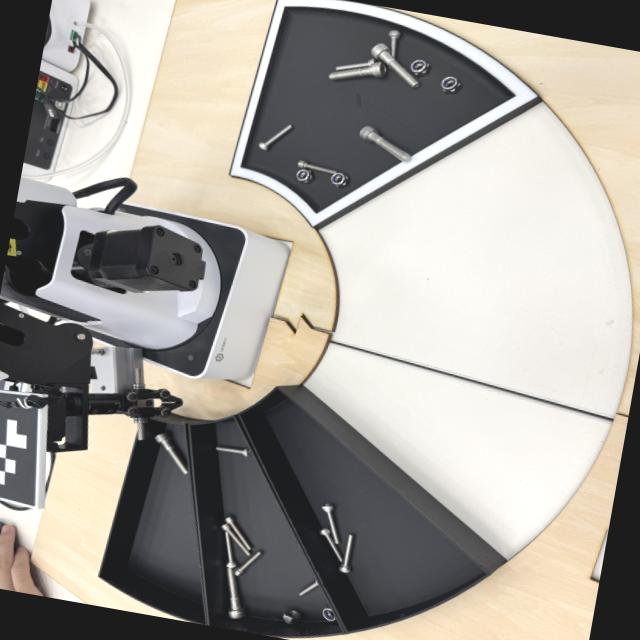big: (353, 118, 413, 174), (366, 37, 423, 91), (211, 562, 247, 625), (150, 426, 191, 481), (324, 57, 388, 81)
board: (218, 0, 562, 268)
box: (173, 365, 505, 640), (119, 402, 348, 640), (89, 413, 250, 622)
circle: (405, 56, 435, 82), (439, 73, 465, 97), (278, 605, 304, 626), (293, 165, 316, 186), (318, 605, 342, 625), (329, 169, 348, 190)
small: (255, 115, 293, 153), (217, 519, 250, 558), (222, 513, 253, 554), (317, 523, 345, 566), (231, 544, 263, 579), (295, 158, 341, 179), (318, 503, 339, 546), (335, 532, 353, 577), (218, 528, 237, 570), (294, 576, 321, 599), (382, 29, 401, 59), (212, 444, 251, 458), (332, 57, 378, 68)
